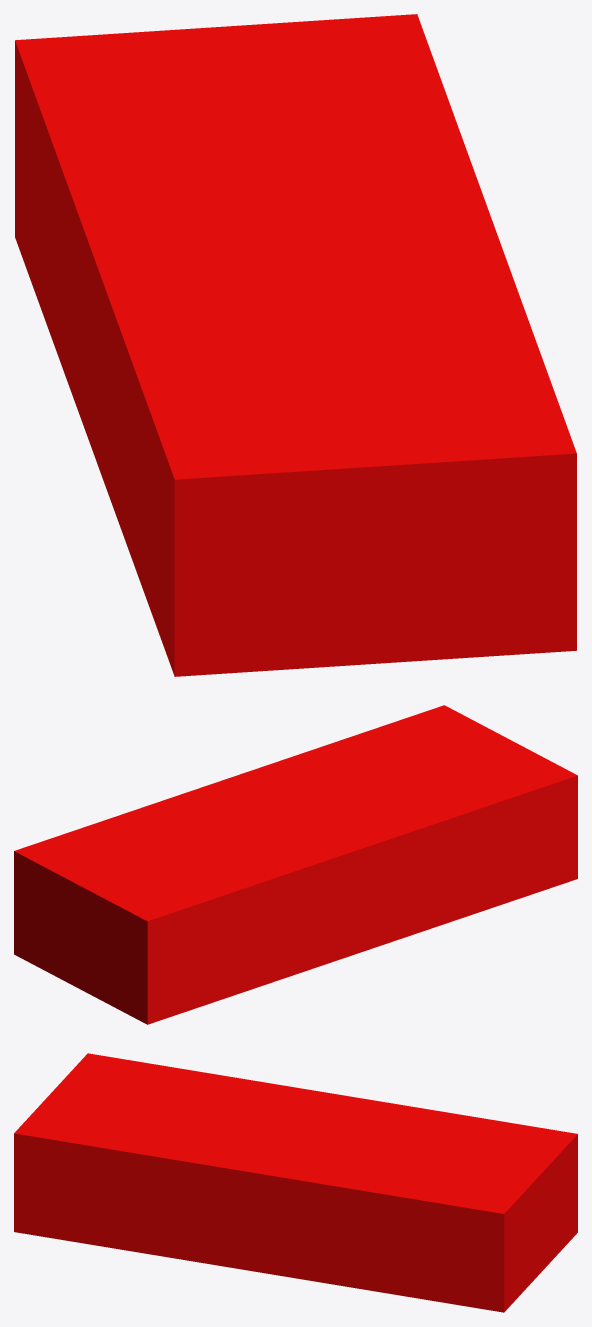
File: BosquesdelasVictorias_Dummys_INV_Mz8.fbx
3 renders of one model, top to bottom at view 1: azimuth 30°, elevation 25°; view 2: azimuth 150°, elevation 25°; view 3: azimuth 270°, elevation 25°, orthographic. The views are drawn at different scales.
Parts seen in each view (by area): view 1: Cube__13_; view 2: Cube__13_; view 3: Cube__13_.
Boxes of the visible parts, box(x1,y1,x2,y2) form: Cube__13_: box(15, 14, 576, 676); Cube__13_: box(14, 705, 577, 1024); Cube__13_: box(14, 1053, 577, 1312).
Bounding box in the file's own units: 3370 × 964 × 4996.
